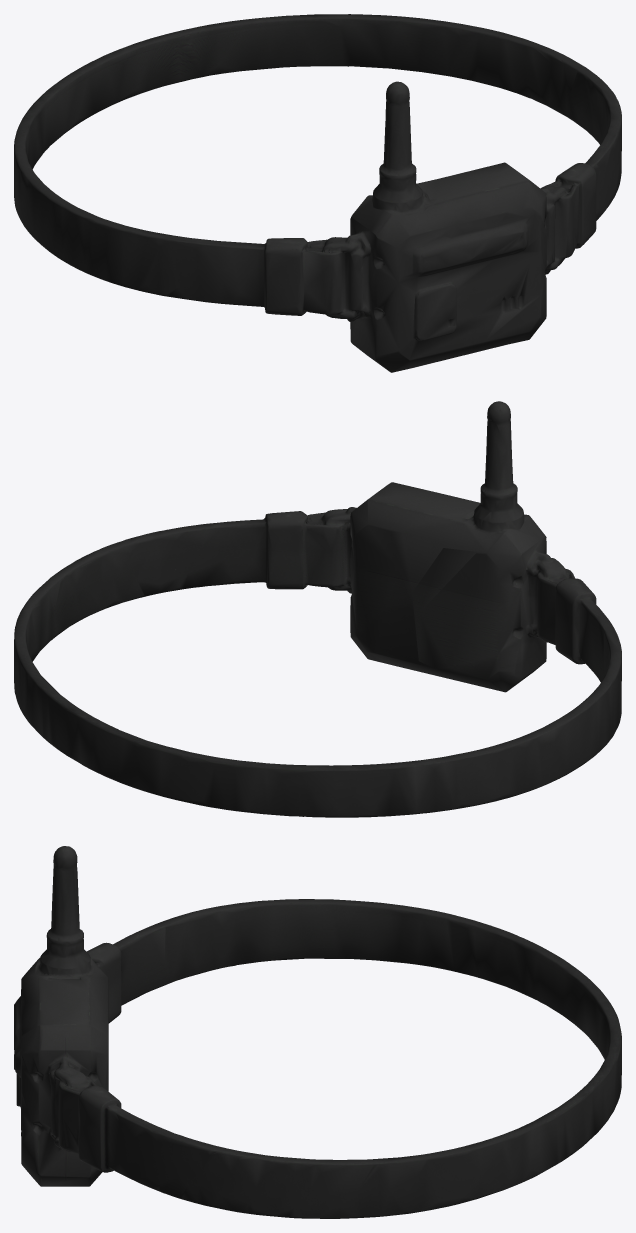
Rendered from Meshy_AI_Head_mounted_wireless_0512111413_texture.fbx.
The picture shows the model from 3 angles, top to bottom: view 1: azimuth 30°, elevation 25°; view 2: azimuth 150°, elevation 25°; view 3: azimuth 270°, elevation 25°; orthographic projection.
Parts seen in each view (by area): view 1: Mesh_0; view 2: Mesh_0; view 3: Mesh_0.
Part boxes in pixels (<box>): Mesh_0: <box>14,14,621,372</box>; Mesh_0: <box>14,401,621,817</box>; Mesh_0: <box>14,846,621,1218</box>.
Bounding box in the file's own units: 191 × 94.14 × 185.
1 material, 1 textured.
